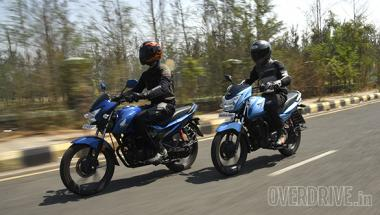helmet: (135, 39, 165, 66), (248, 40, 272, 60)
